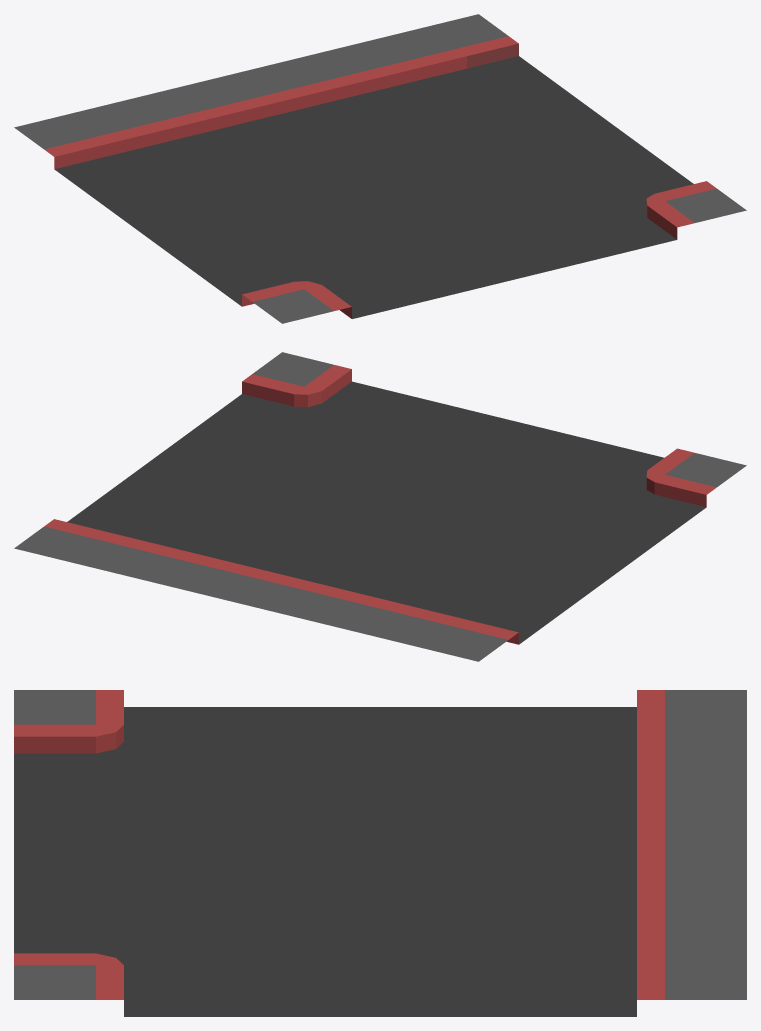
File: SM_Crossroads01.FBX
3 views of the same model, one above another, from view 1: azimuth 30°, elevation 25°; view 2: azimuth 150°, elevation 25°; view 3: azimuth 270°, elevation 25° (orthographic). The views are drawn at different scales.
Visible parts, largest first — view 1: crossroads01_new; view 2: crossroads01_new; view 3: crossroads01_new.
Boxes of the visible parts, x1=… form: crossroads01_new: x1=14, y1=14, x2=746, y2=323; crossroads01_new: x1=14, y1=352, x2=746, y2=661; crossroads01_new: x1=14, y1=690, x2=746, y2=1016.
Size of the model in its own units: 1000 by 25.47 by 1000.
